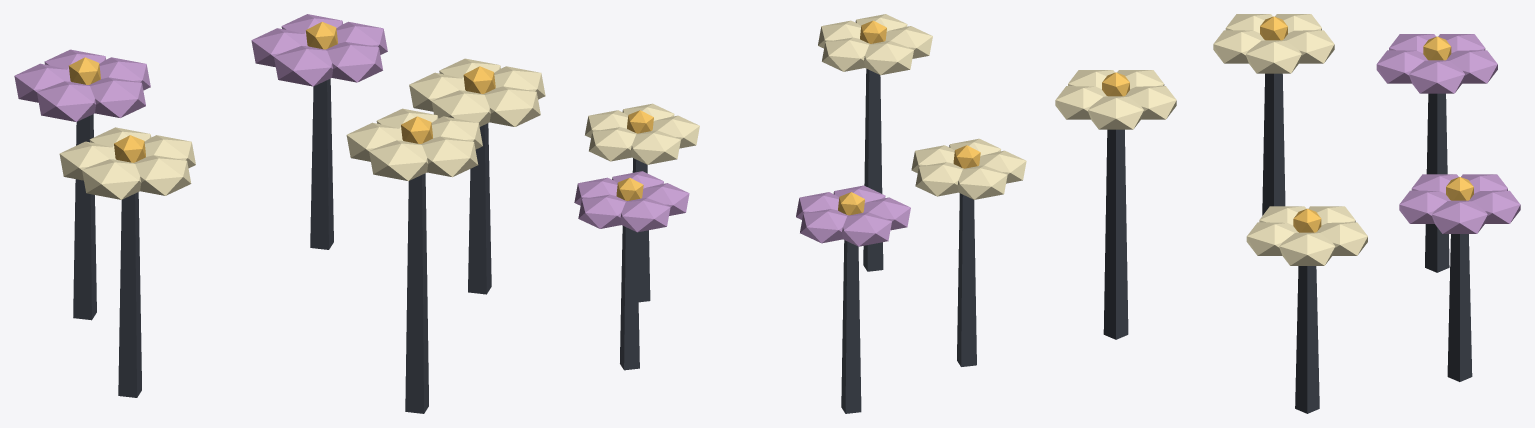
The model's file is enfeite_flores.glb.
3 renders of one model, left to right at view 1: azimuth 30°, elevation 25°; view 2: azimuth 150°, elevation 25°; view 3: azimuth 270°, elevation 25°, orthographic. The views are drawn at different scales.
Visible parts, largest first — view 1: vulcao_enfeite_flores; view 2: vulcao_enfeite_flores; view 3: vulcao_enfeite_flores.
Boxes of the visible parts, x1=… form: vulcao_enfeite_flores: x1=14, y1=14, x2=545, y2=413; vulcao_enfeite_flores: x1=574, y1=14, x2=1026, y2=413; vulcao_enfeite_flores: x1=1055, y1=14, x2=1520, y2=413.
Bounding box in the file's own units: 0.366 × 0.211 × 0.339.
